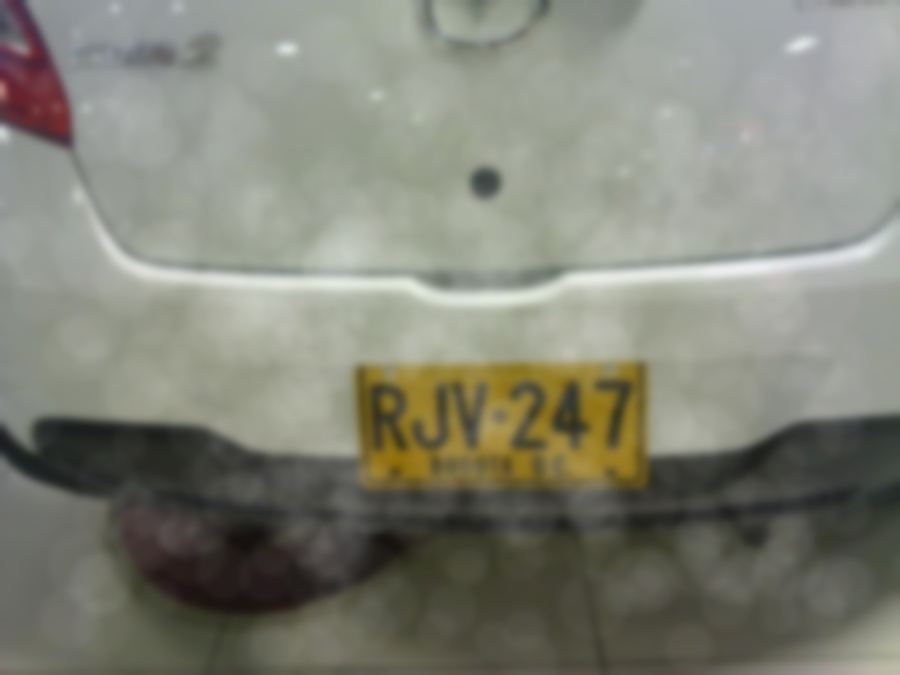placas: (351, 354, 652, 490)
